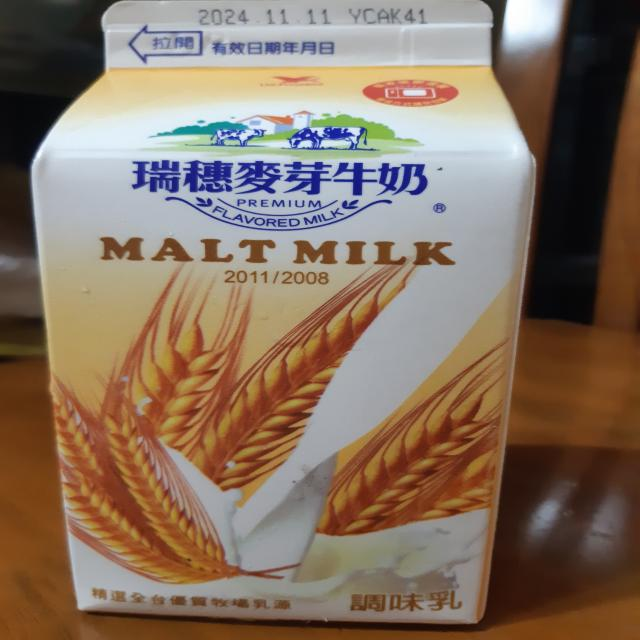RuiSui_MaltedMilk: (24, 0, 551, 637)
